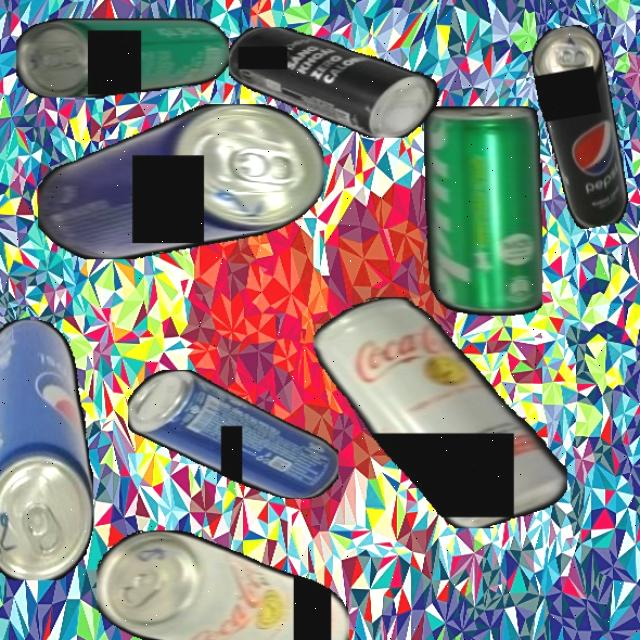debris: (314, 296, 568, 528), (37, 104, 324, 259), (97, 529, 349, 640), (127, 370, 338, 499), (423, 106, 542, 316), (0, 318, 93, 580), (229, 26, 445, 138), (528, 22, 632, 232), (16, 17, 229, 98)
